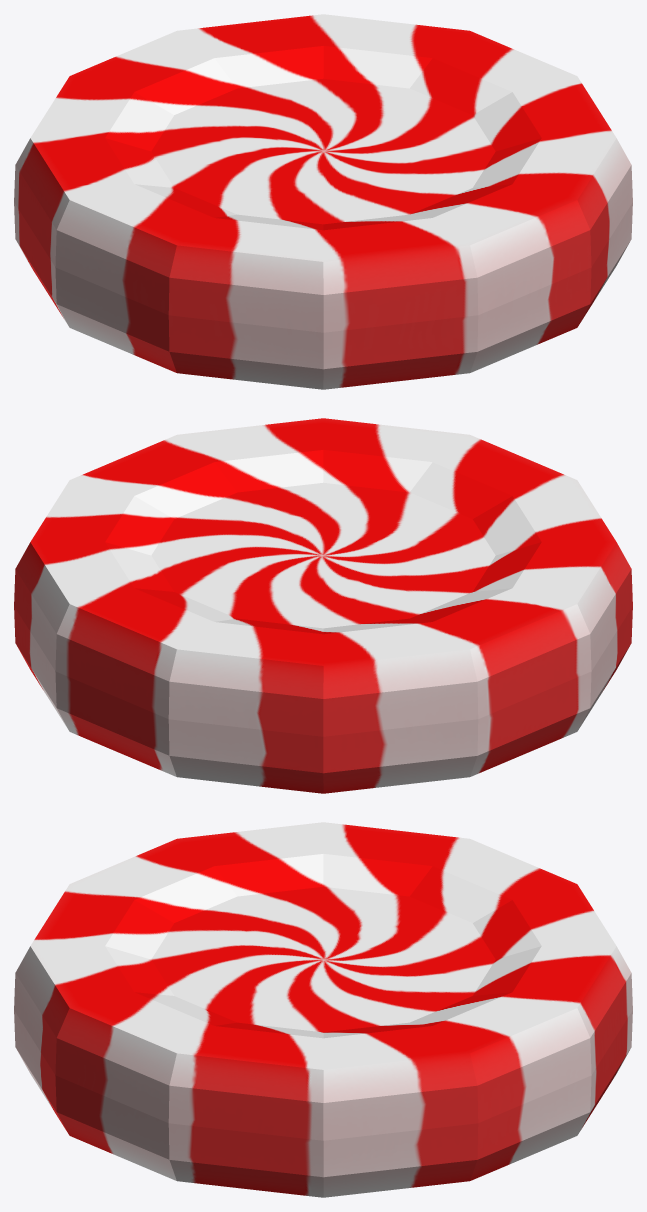
File: Peppermint candy.glb
3 renders of one model, top to bottom at view 1: azimuth 30°, elevation 25°; view 2: azimuth 150°, elevation 25°; view 3: azimuth 270°, elevation 25°, orthographic.
Visible parts, largest first — view 1: Node; view 2: Node; view 3: Node.
Boxes of the visible parts, x1,y1,x2,y2 form: Node: (14,14,632,389); Node: (14,418,632,793); Node: (14,822,632,1197).
Size of the model in its own units: 2.11 by 0.4811 by 2.11.
Materials: 1 (1 with a texture image).
